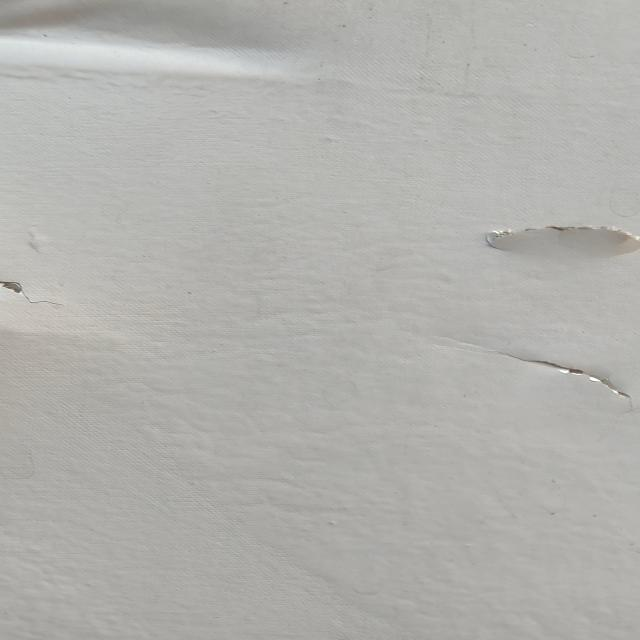Dents or Deformation: (1, 1, 289, 88)
Scratches: (405, 195, 640, 273)
